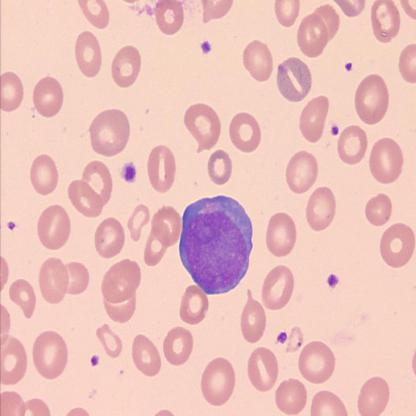Blast: (176, 194, 254, 296)
